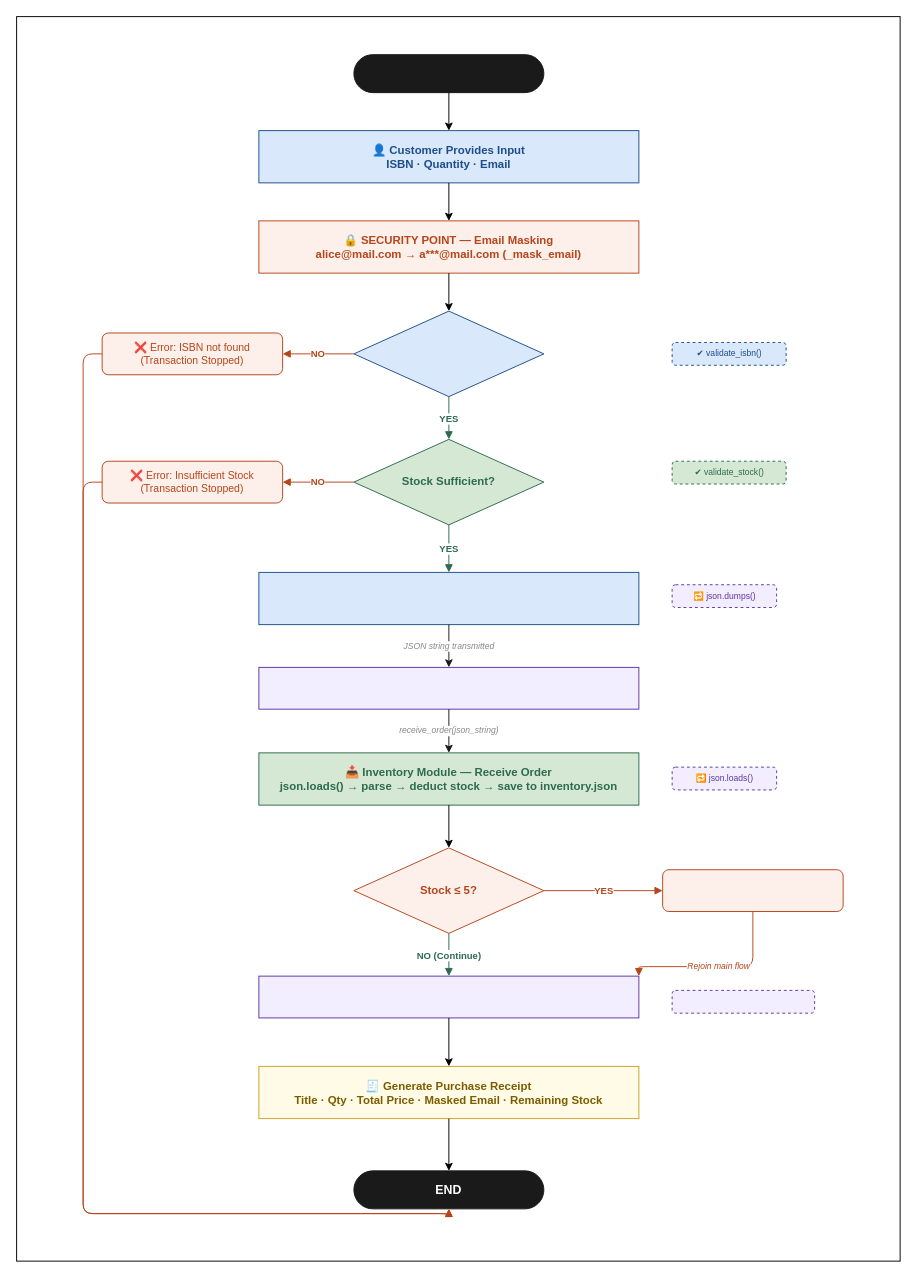
The diagram is 917 pixels wide and 1278 high, and some of its shapes have lost their labels. Here are the shapes that lost their labels. From the top down, the centre of each, then its label:
(x=448, y=73): START
(x=448, y=353): ISBN Valid?
(x=448, y=598): 📤 Sales Module — Build Order json.dumps() → converts order to JSON string
(x=448, y=687): {"isbn": "ISBN001", "quantity": 3, "customer_email": "a***@mail.com"}
(x=752, y=890): ⚠️ LOW STOCK ALERT Print warning to terminal
(x=448, y=996): {"status": "success", "remaining_stock": 7, "low_stock_alert": null}
(x=743, y=1001): 🔁 json.dumps() response
